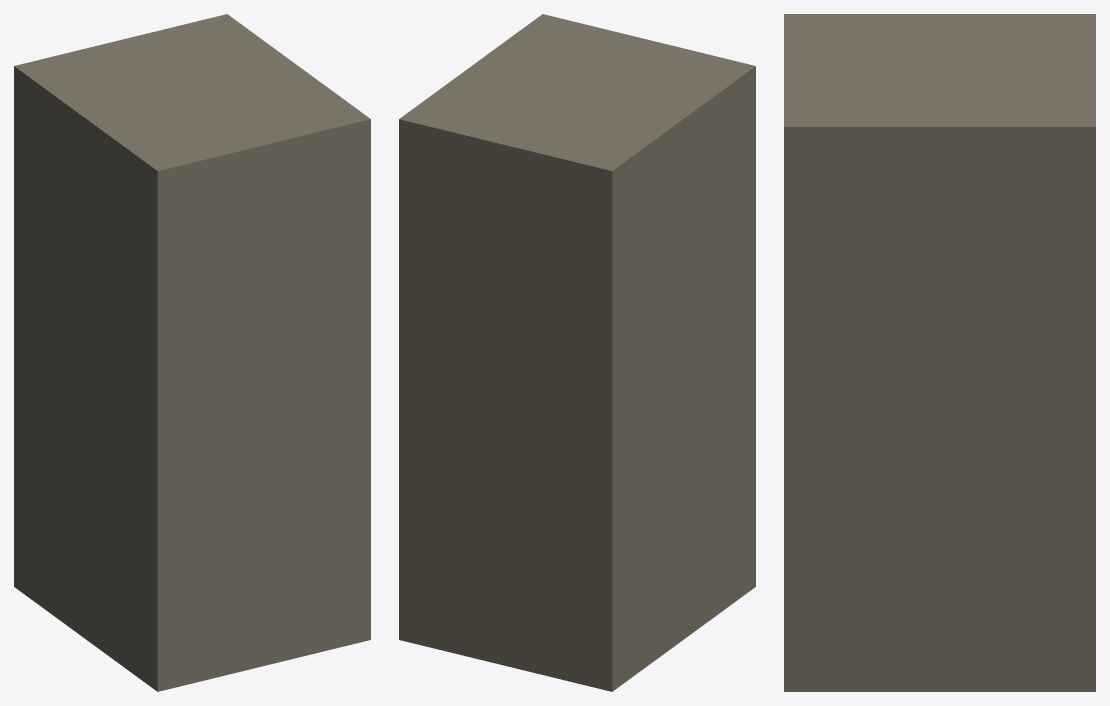
The model's file is fort-tower-square.tone-v1.lod2.glb.
The picture shows the model from 3 angles, left to right: view 1: azimuth 30°, elevation 25°; view 2: azimuth 150°, elevation 25°; view 3: azimuth 270°, elevation 25°; orthographic projection. The views are drawn at different scales.
Parts seen in each view (by area): view 1: fort-tower-square; view 2: fort-tower-square; view 3: fort-tower-square.
Boxes of the visible parts, <box> form: fort-tower-square: <box>14,14,370,691</box>; fort-tower-square: <box>399,14,755,691</box>; fort-tower-square: <box>784,14,1095,691</box>.
Bounding box in the file's own units: 12 × 28 × 14.
